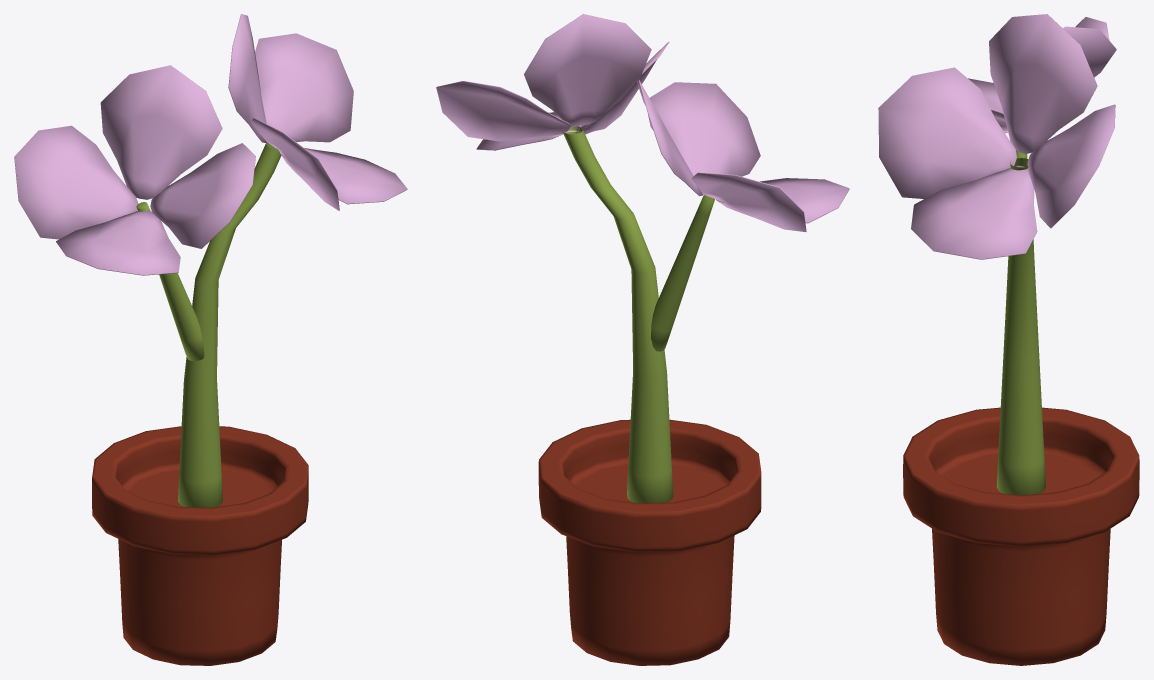
The model's file is plant.fbx.
3 renders of one model, left to right at view 1: azimuth 30°, elevation 25°; view 2: azimuth 150°, elevation 25°; view 3: azimuth 270°, elevation 25°, orthographic. The views are drawn at different scales.
Parts seen in each view (by area): view 1: Circle, Cylinder.004, Cylinder.001, Cylinder; view 2: Circle, Cylinder.001, Cylinder, Cylinder.004; view 3: Circle, Cylinder.001, Cylinder, Cylinder.004.
Boxes of the visible parts, bbox=[...] form: Circle: bbox=[92, 426, 308, 665]; Cylinder.004: bbox=[14, 65, 255, 275]; Cylinder.001: bbox=[228, 14, 407, 210]; Cylinder: bbox=[136, 143, 281, 507]; Circle: bbox=[538, 419, 761, 665]; Cylinder.001: bbox=[436, 14, 669, 150]; Cylinder: bbox=[562, 126, 714, 503]; Cylinder.004: bbox=[637, 79, 849, 231]; Circle: bbox=[903, 407, 1139, 665]; Cylinder.001: bbox=[878, 14, 1115, 259]; Cylinder: bbox=[996, 150, 1045, 495]; Cylinder.004: bbox=[968, 17, 1116, 133].
Size of the model in its own units: 478 by 794 by 292.
